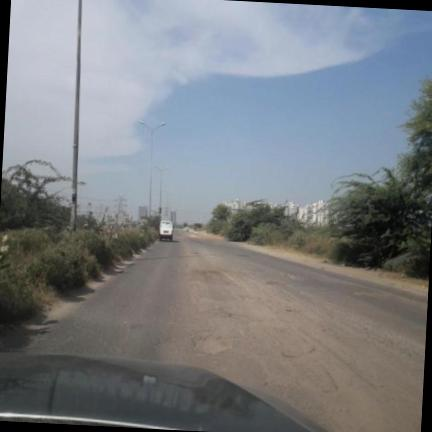Road: (6, 231, 427, 431)
